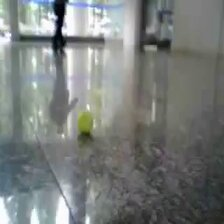tennis: (77, 112, 92, 134)
